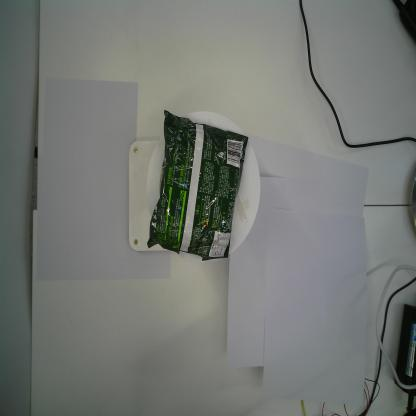Instant Noodles: (146, 108, 249, 261)
